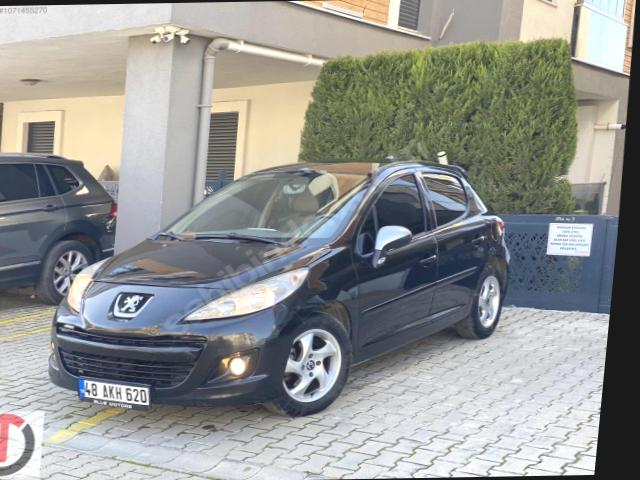plaka: (78, 379, 151, 409)
